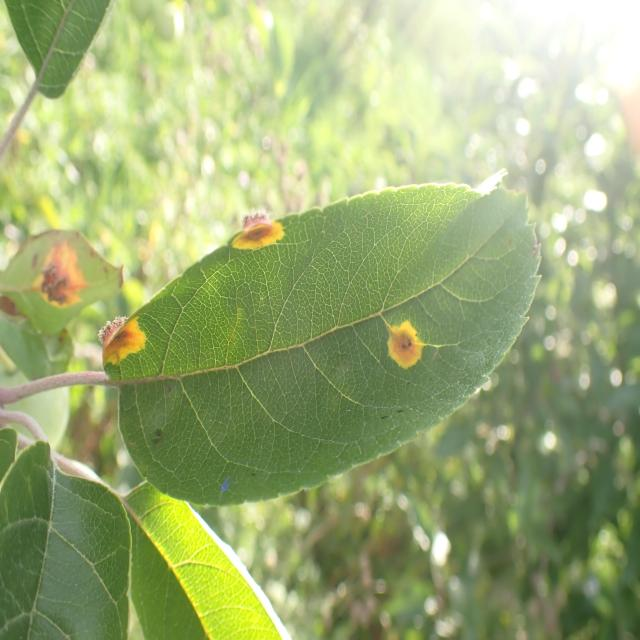Rust: (31, 240, 89, 320), (100, 300, 156, 380), (223, 203, 296, 262), (380, 314, 431, 375)
